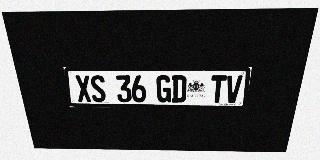3: (116, 75, 132, 102)
6: (131, 75, 146, 102)
D: (171, 75, 187, 103)
G: (156, 75, 171, 102)
S: (89, 75, 107, 102)
T: (210, 75, 227, 103)
V: (225, 75, 243, 103)
X: (74, 75, 92, 102)
